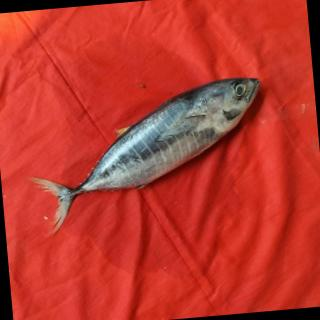Ikan: (24, 61, 282, 239)
